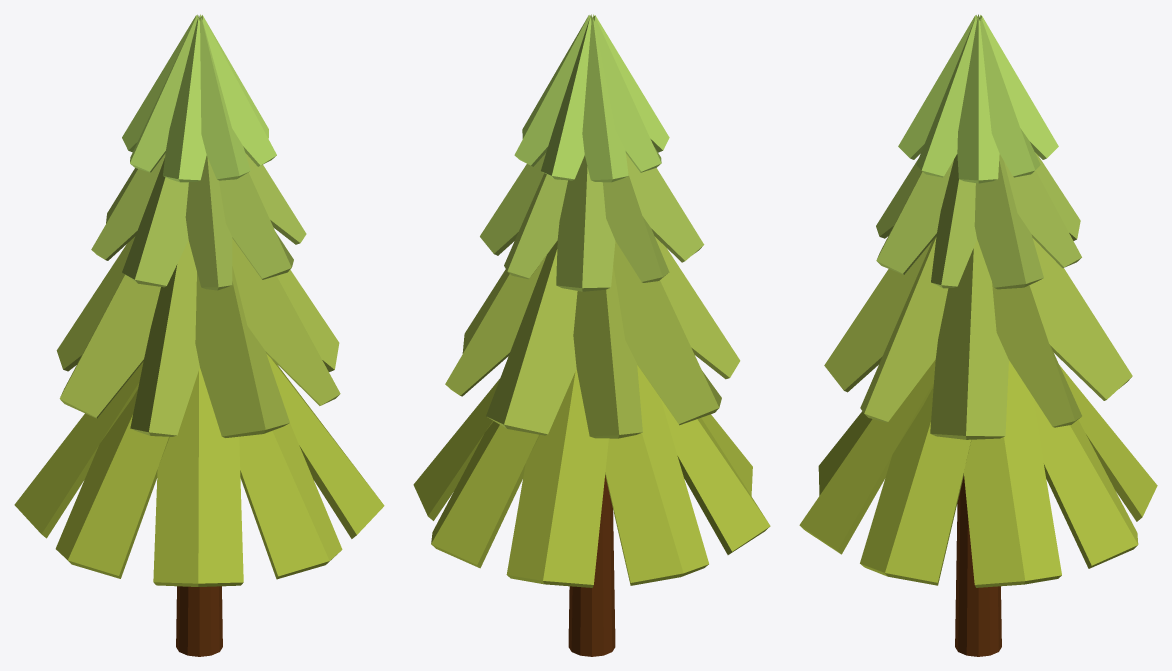
The model's file is TreeFixed.fbx.
3 views of the same model, side by side, from view 1: azimuth 30°, elevation 25°; view 2: azimuth 150°, elevation 25°; view 3: azimuth 270°, elevation 25° (orthographic).
Parts seen in each view (by area): view 1: Cylinder.003; view 2: Cylinder.003; view 3: Cylinder.003.
Part boxes in pixels (left/top/right/bottom): Cylinder.003: left=14, top=14, right=384, bottom=656; Cylinder.003: left=413, top=14, right=770, bottom=656; Cylinder.003: left=799, top=14, right=1157, bottom=656.
Size of the model in its own units: 445 by 866 by 445.
